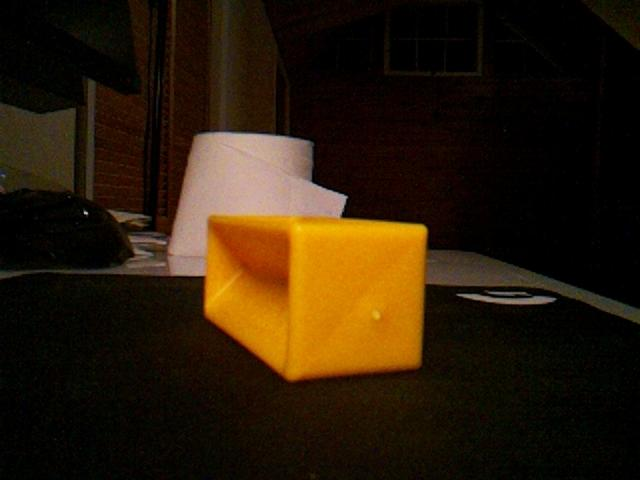yellow: (202, 213, 429, 383)
